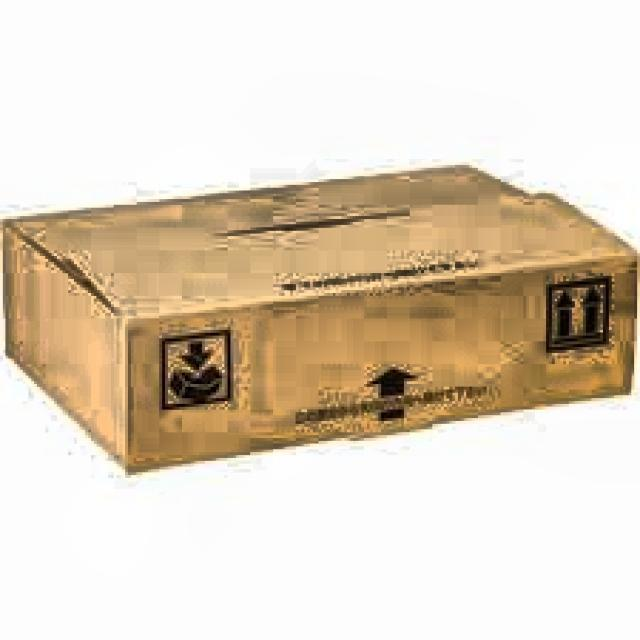cardboard: (0, 159, 637, 472)
